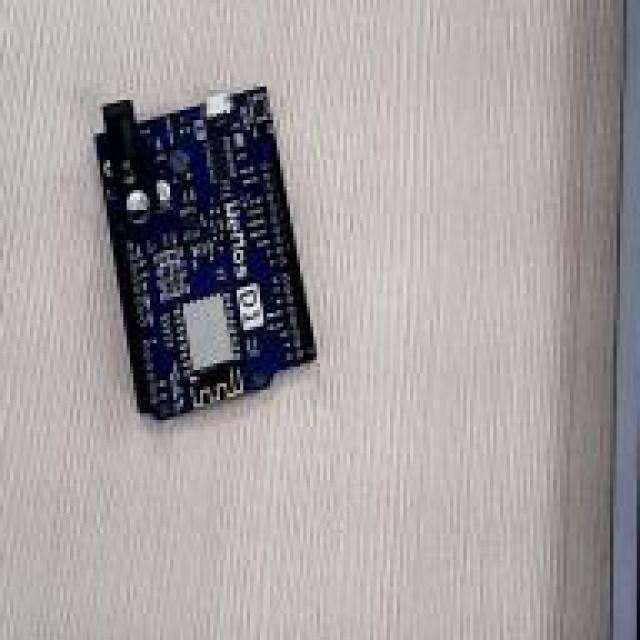Wemos: (98, 88, 314, 418)
